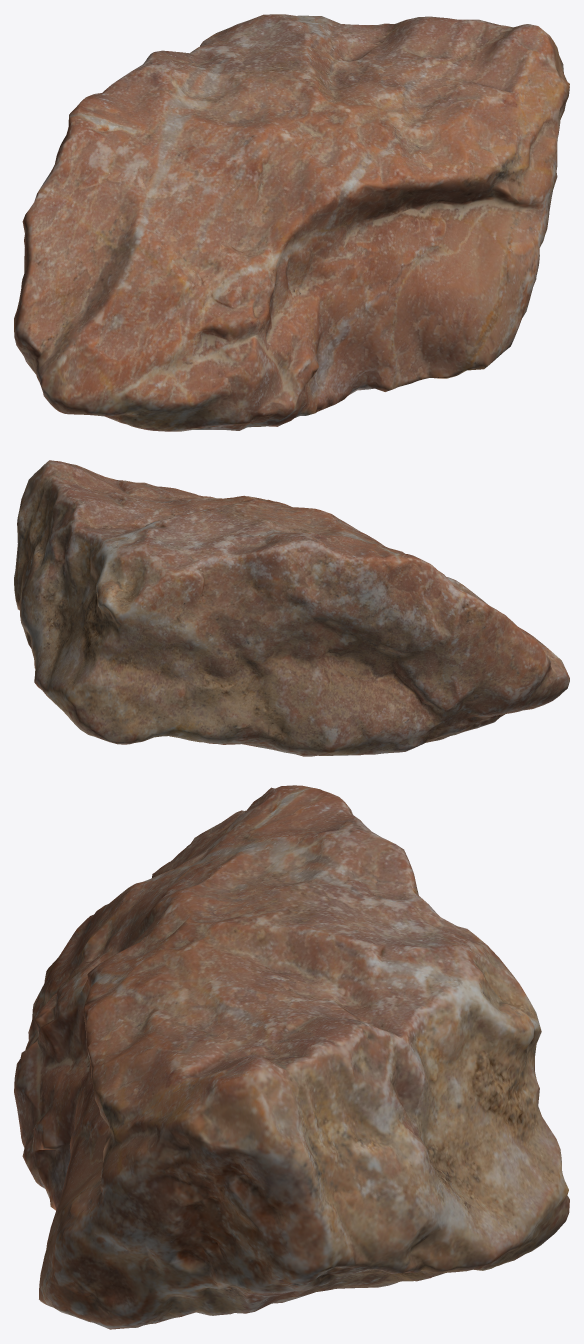
The model's file is stone_03.glb.
3 views of the same model, one above another, from view 1: azimuth 30°, elevation 25°; view 2: azimuth 150°, elevation 25°; view 3: azimuth 270°, elevation 25° (orthographic). The views are drawn at different scales.
Parts seen in each view (by area): view 1: Object_2; view 2: Object_2; view 3: Object_2.
Boxes of the visible parts, <box> form: Object_2: <box>14,14,569,431</box>; Object_2: <box>14,460,569,756</box>; Object_2: <box>14,785,569,1329</box>.
Size of the model in its own units: 1.07 by 0.4812 by 0.6798.
1 material, 1 textured.
